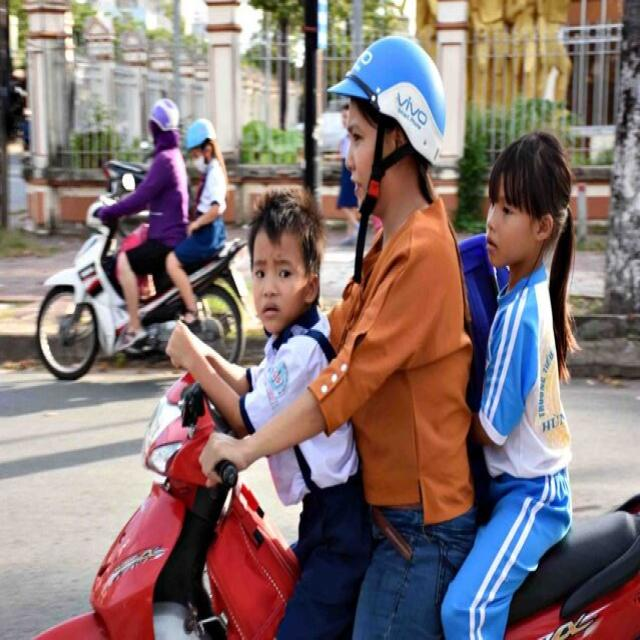Helmet: (329, 36, 445, 222)
Nonhelmet: (475, 120, 574, 279), (232, 172, 320, 336)
